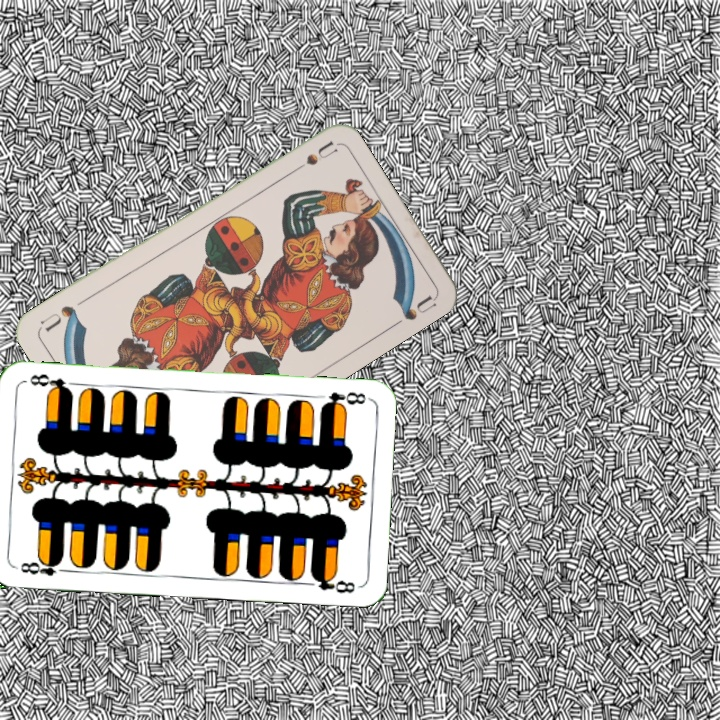E8: (17, 554, 71, 578), (317, 388, 370, 412)
SU: (284, 137, 339, 178)
